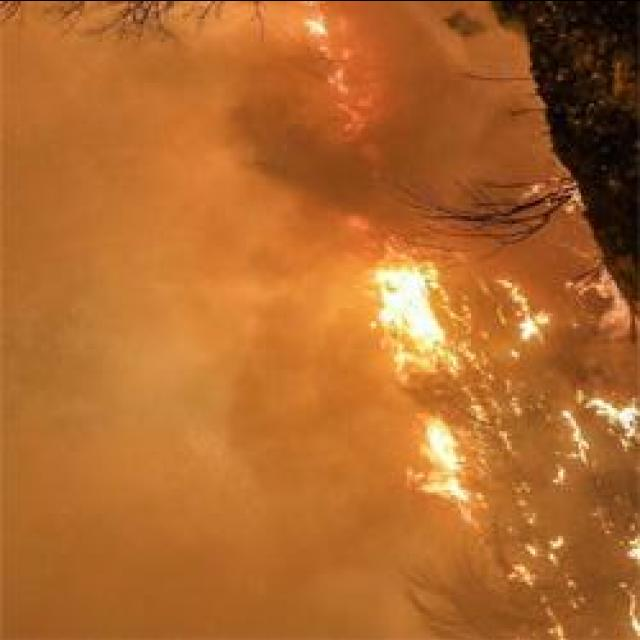fire: (370, 262, 454, 370), (415, 423, 478, 517)
smoke: (230, 406, 412, 620), (238, 70, 441, 256)
